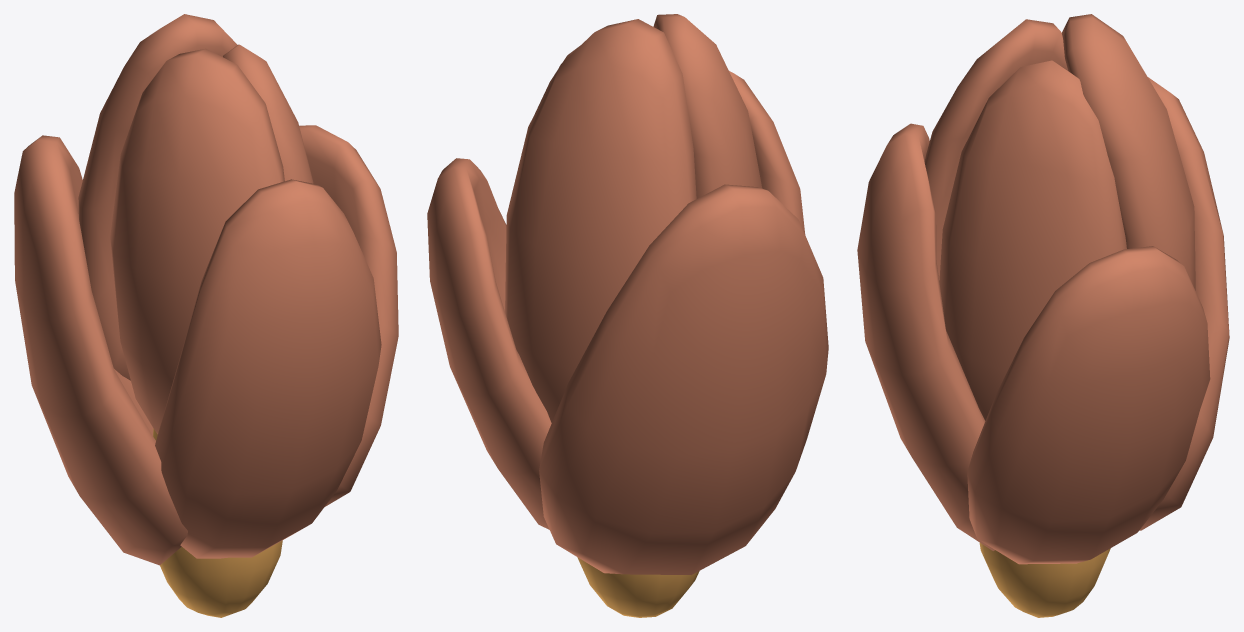
File: Spiker_01.fbx
The picture shows the model from 3 angles, left to right: view 1: azimuth 30°, elevation 25°; view 2: azimuth 150°, elevation 25°; view 3: azimuth 270°, elevation 25°; orthographic projection. The views are drawn at different scales.
Parts seen in each view (by area): view 1: Spiker_01_LOD0; view 2: Spiker_01_LOD0; view 3: Spiker_01_LOD0.
Boxes of the visible parts, x1,y1,x2,y2 form: Spiker_01_LOD0: (14, 14, 398, 617); Spiker_01_LOD0: (427, 14, 828, 617); Spiker_01_LOD0: (857, 14, 1229, 617).
Size of what is drawn, in the model's own units: 306 by 495 by 284.
